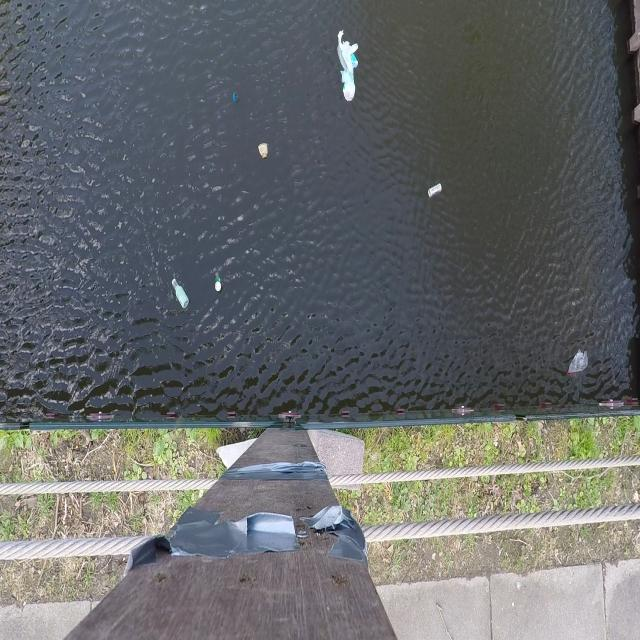Bouteille plastique: (168, 272, 191, 315)
Non plastique: (426, 179, 446, 207), (254, 136, 270, 163)
Sac plastique: (334, 22, 365, 108), (565, 346, 592, 382)
